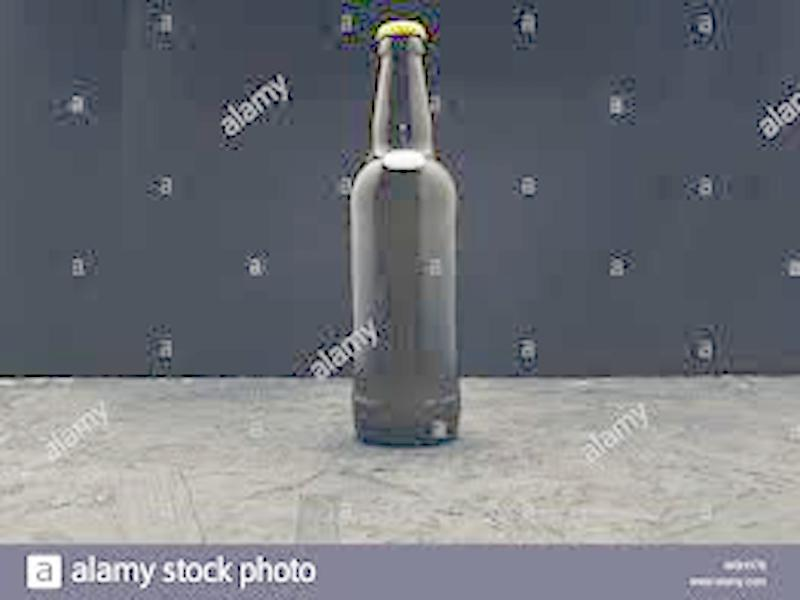Beer: (360, 22, 458, 444)
